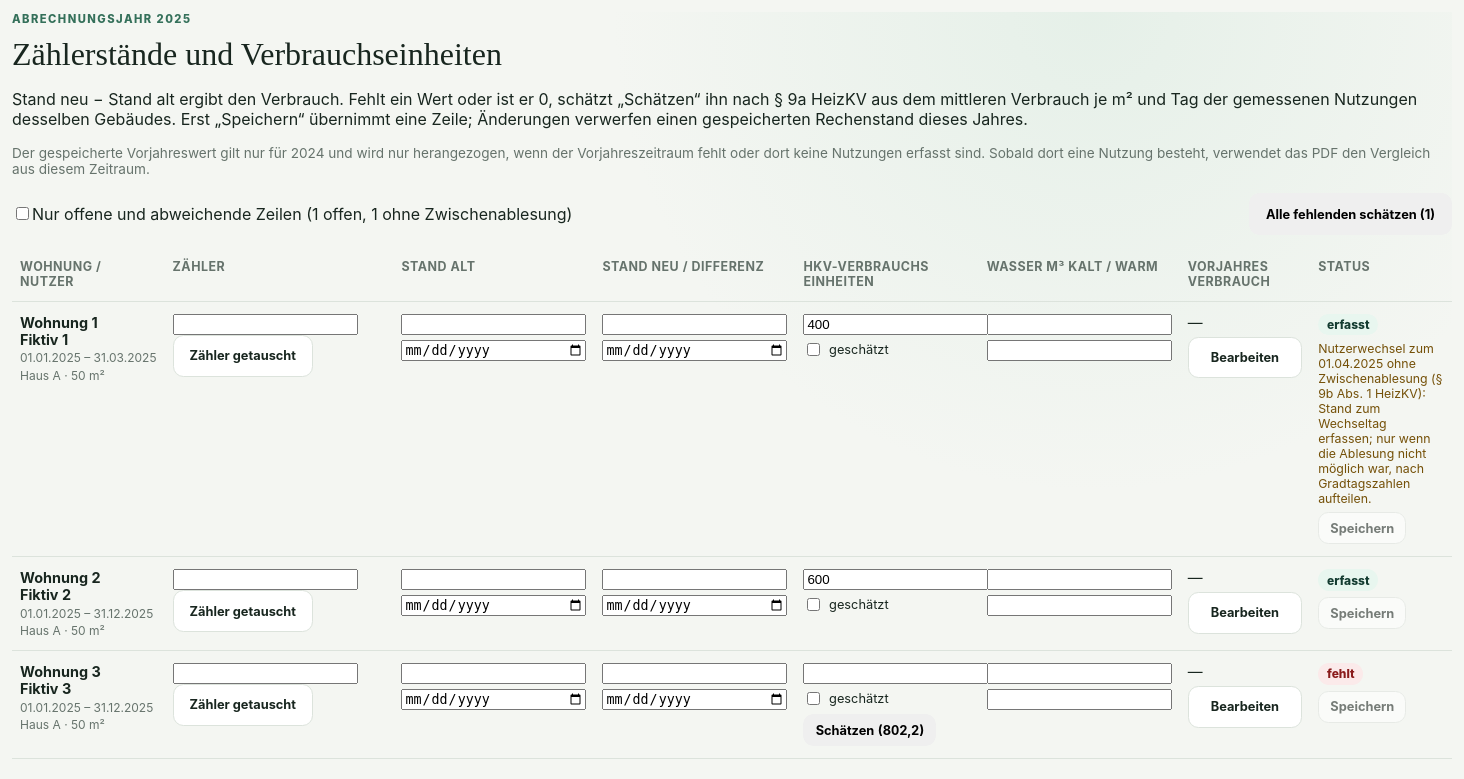
Test case: ConsumptionRoute – Zählertausch, Nutzerwechsel und Klimafaktor › markiert Wechsel ohne Zwischenablesung und filtert sie als offen
expect the text "Nutzerwechsel zum 01.04.2025 ohne Zwischenablesung" is shown: met, box 1318,341 -> 1444,506
expect the label labelled "Nur offene" reads "Nur offene und abweichende Zeilen (1 offen, 1 ohne Zwischenablesung)": met, box 12,204 -> 572,224
Click the checkbox labelled "Nur offene": x=22, y=214 16,207 -> 29,220
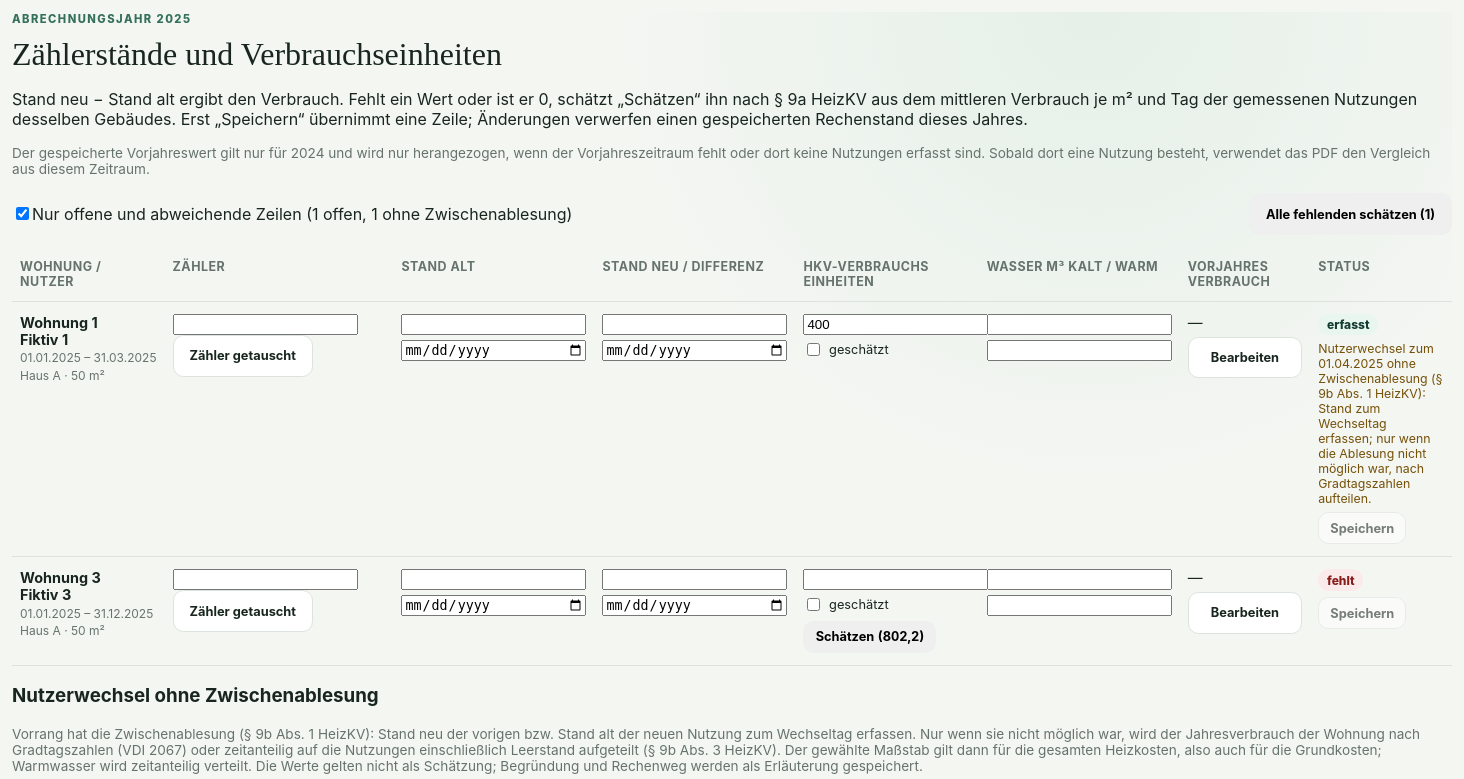
expect the column heading "Wohnung 1 Fiktiv 1 01.01.2025 – 31.03.2025 Haus A · 50 m²" is shown: met, box 12,302 -> 164,557
expect the column heading "Wohnung 2" is gone: met
